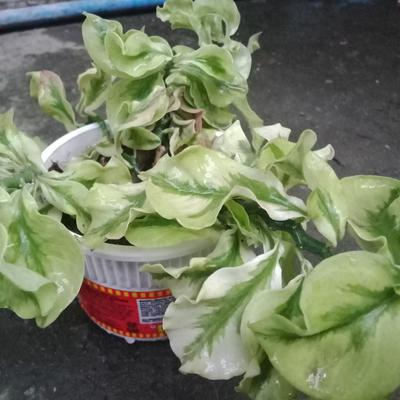Pothos plant: (108, 34, 400, 303)
